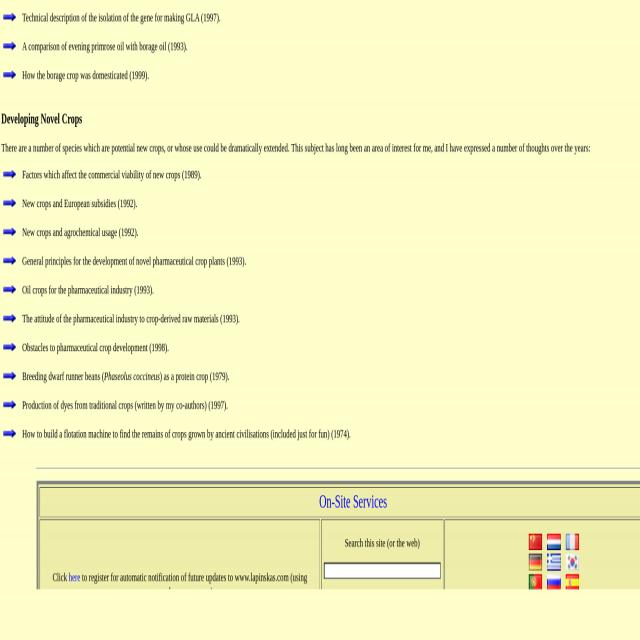button: (528, 572, 542, 589), (546, 572, 560, 589), (564, 572, 578, 589), (528, 532, 542, 548), (546, 532, 560, 548), (564, 532, 578, 548), (528, 552, 542, 568), (546, 552, 560, 568), (564, 552, 578, 568), (2, 282, 15, 292), (2, 340, 15, 350), (2, 426, 15, 436), (2, 68, 15, 78), (2, 11, 15, 20), (2, 196, 15, 205), (2, 225, 15, 234), (2, 254, 15, 263), (2, 312, 15, 321), (2, 369, 15, 378), (2, 398, 15, 407), (2, 40, 15, 49), (2, 168, 15, 176)
field: (322, 561, 440, 578)
